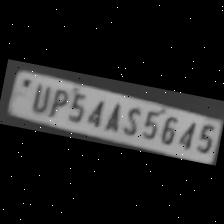4: (174, 114, 199, 149), (83, 92, 107, 128)
5: (64, 87, 90, 123), (192, 118, 218, 154), (137, 104, 162, 140)
6: (156, 110, 180, 146)
A: (100, 96, 125, 132)
P: (46, 84, 71, 119)
S: (119, 102, 143, 136)
U: (27, 80, 52, 114)
